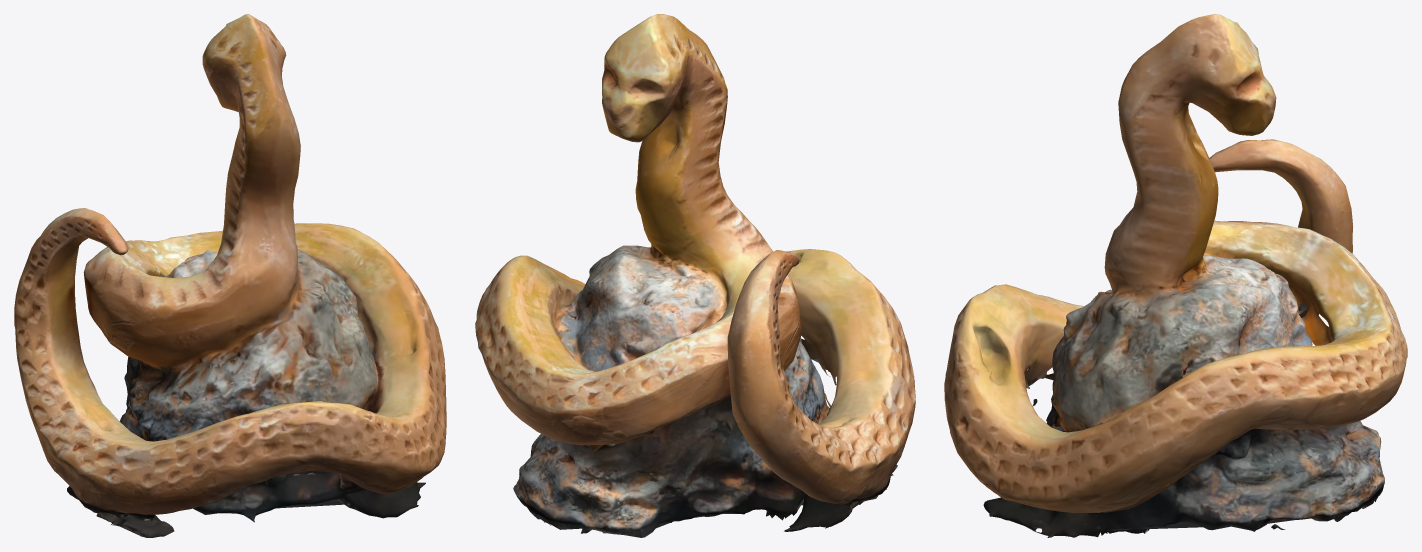
3 renders of one model, left to right at view 1: azimuth 30°, elevation 25°; view 2: azimuth 150°, elevation 25°; view 3: azimuth 270°, elevation 25°, orthographic. The views are drawn at different scales.
Visible parts, largest first — view 1: Mesh_0; view 2: Mesh_0; view 3: Mesh_0.
Part boxes in pixels (left/top/right/bottom): Mesh_0: left=14, top=14, right=446, bottom=537; Mesh_0: left=475, top=14, right=915, bottom=537; Mesh_0: left=944, top=14, right=1407, bottom=537.
Bounding box in the file's own units: 1.22 × 1.44 × 1.26.
8 materials, 7 textured.
